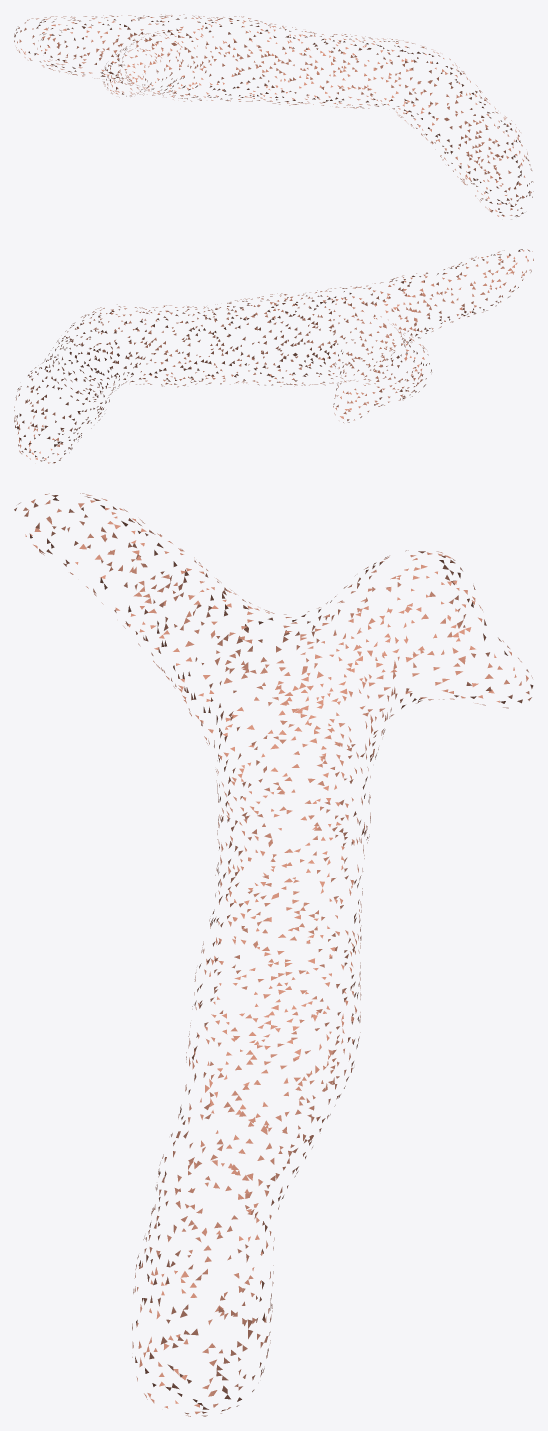
The model's file is morph_003.glb.
3 renders of one model, top to bottom at view 1: azimuth 30°, elevation 25°; view 2: azimuth 150°, elevation 25°; view 3: azimuth 270°, elevation 25°, orthographic. The views are drawn at different scales.
Size of the model in its own units: 99.11 by 58.93 by 51.99.
